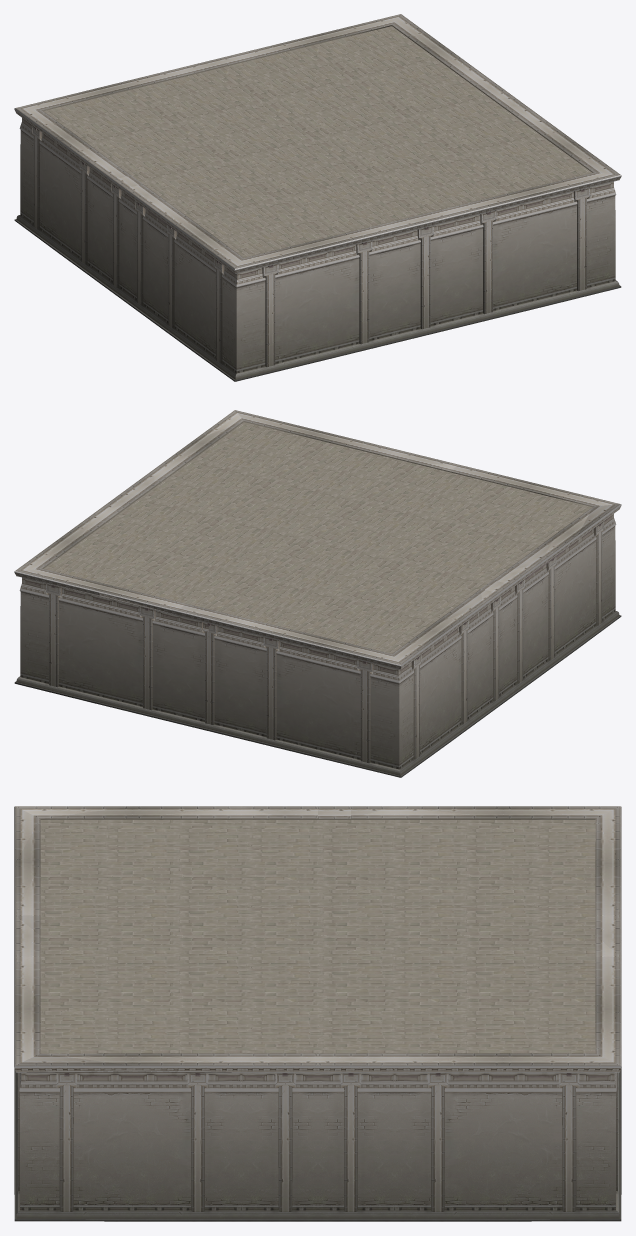
File: mod_zlc_jianzhu090_xy.FBX
3 views of the same model, one above another, from view 1: azimuth 30°, elevation 25°; view 2: azimuth 150°, elevation 25°; view 3: azimuth 270°, elevation 25° (orthographic). The views are drawn at different scales.
Visible parts, largest first — view 1: Plane001; view 2: Plane001; view 3: Plane001.
Boxes of the visible parts, x1,y1,x2,y2 form: Plane001: (14,14,621,381); Plane001: (14,410,621,777); Plane001: (14,806,621,1221).
Bounding box in the file's own units: 59.24 × 16.49 × 58.45.
Materials: 3 (3 with a texture image).
